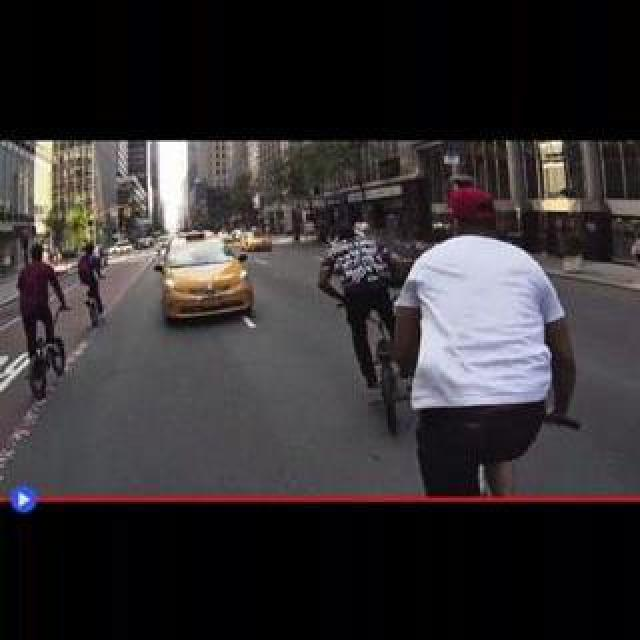Bus-Bike: (158, 236, 256, 324)
MC-Bike: (386, 184, 574, 490), (320, 236, 394, 386), (16, 246, 70, 364), (78, 242, 106, 320)
Person: (370, 316, 406, 436), (26, 324, 64, 400)
